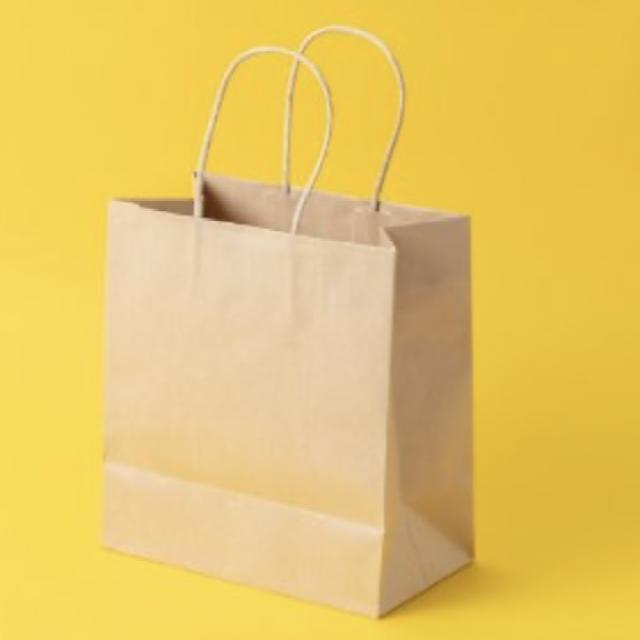biodegradable: (59, 9, 552, 640)
